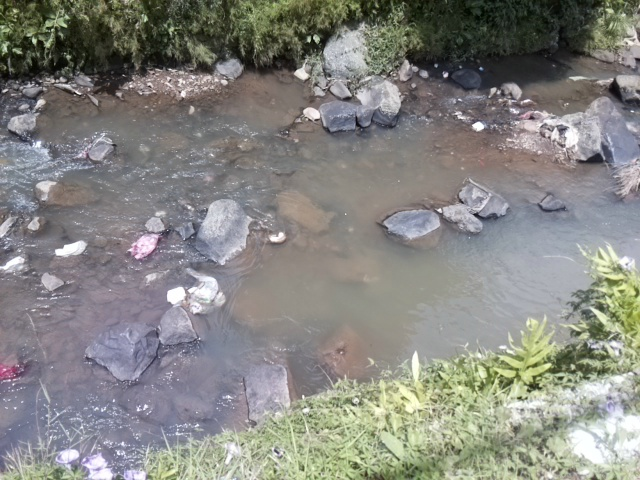Sampah_Plastik: (190, 276, 222, 313), (129, 231, 160, 261), (1, 363, 26, 381)
Sampah_Styrofoam: (54, 240, 85, 255), (164, 284, 187, 304), (474, 120, 485, 133)
